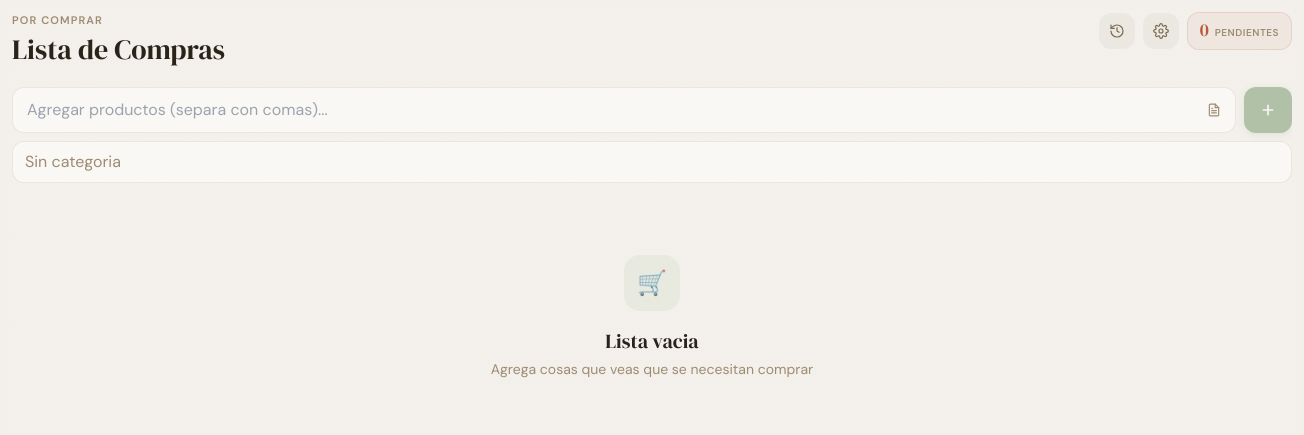
Test case: ShoppingList — Smart Tags integration › muestra chip de sugerencia al escribir un keyword conocido
The image size is (1304, 435).
Type "detergente" into the field with placeholder "Agregar productos (separa con comas)..." at (624, 110), box left=12, top=86, right=1236, bottom=132
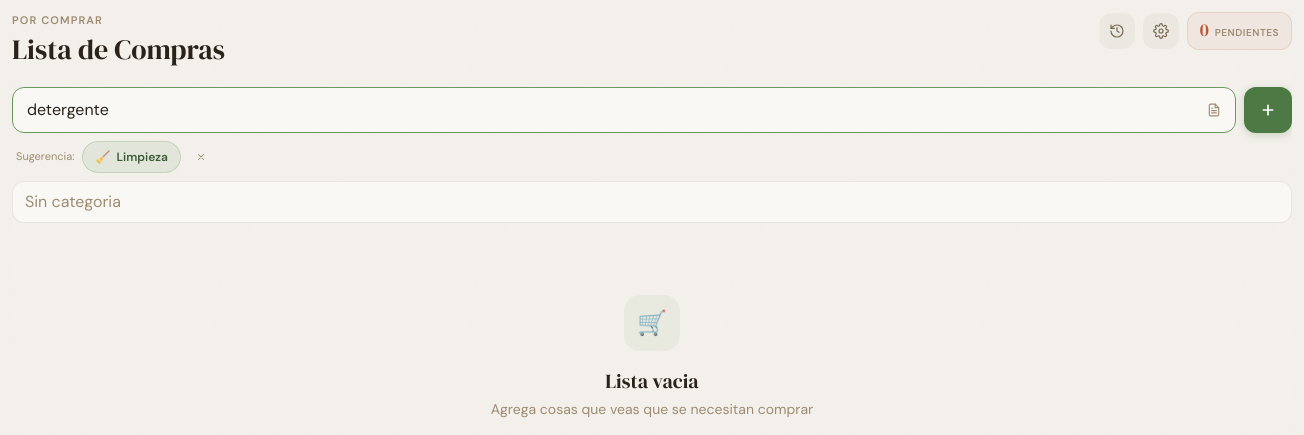
Expected: the text "Sugerencia:" is shown, left=16, top=148, right=74, bottom=165
Expected: the text "Limpieza" is shown, left=116, top=148, right=168, bottom=166
Expected: the text "🧹" is shown, left=95, top=148, right=110, bottom=166
